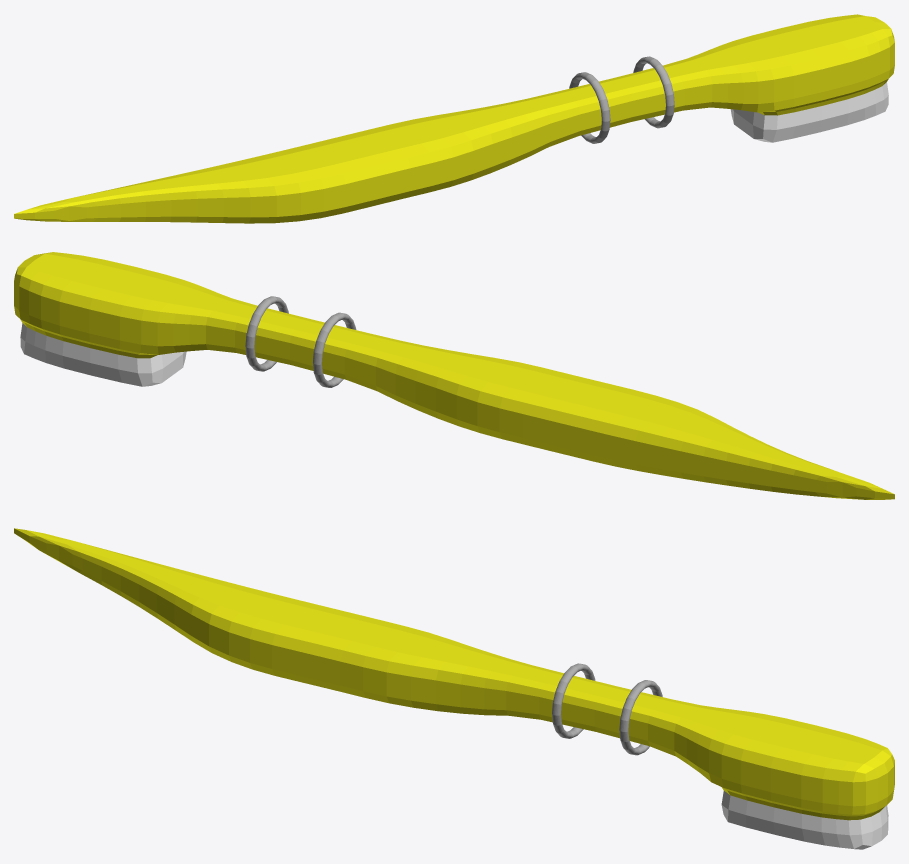
The model's file is toothbrush shiv.fbx.
3 views of the same model, one above another, from view 1: azimuth 30°, elevation 25°; view 2: azimuth 150°, elevation 25°; view 3: azimuth 330°, elevation 25° (orthographic). The views are drawn at different scales.
Parts seen in each view (by area): view 1: Space_Shiv2:obj1, Space_Shiv2:obj0; view 2: Space_Shiv2:obj1, Space_Shiv2:obj0; view 3: Space_Shiv2:obj1, Space_Shiv2:obj0.
Part boxes in pixels (x1,y1,x2,y2): Space_Shiv2:obj1: (14, 14, 894, 223); Space_Shiv2:obj0: (569, 56, 674, 143); Space_Shiv2:obj1: (14, 252, 894, 499); Space_Shiv2:obj0: (245, 296, 356, 387); Space_Shiv2:obj1: (14, 528, 894, 849); Space_Shiv2:obj0: (552, 663, 662, 755).
Size of the model in its own units: 11.35 by 1.26 by 1.07.
Materials: 2 (1 with a texture image).
